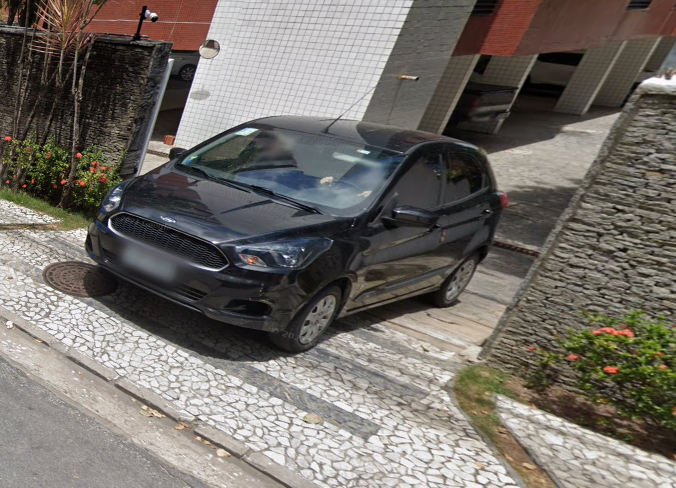car: (81, 82, 512, 370)
